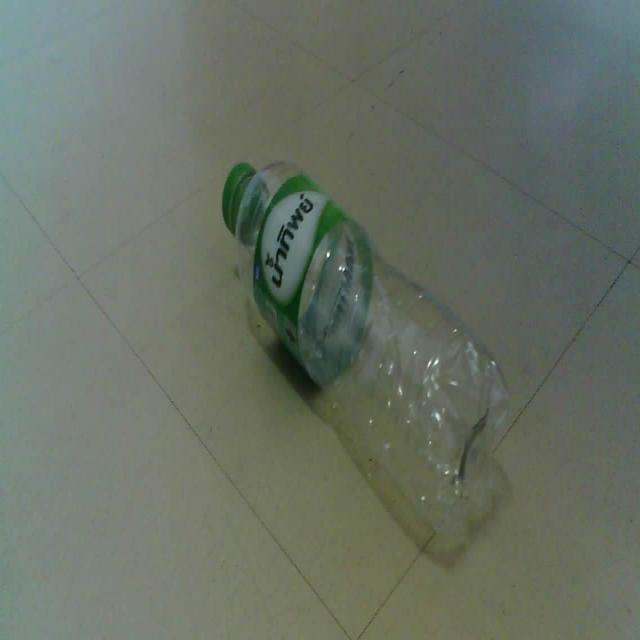empty: (222, 161, 505, 532)
